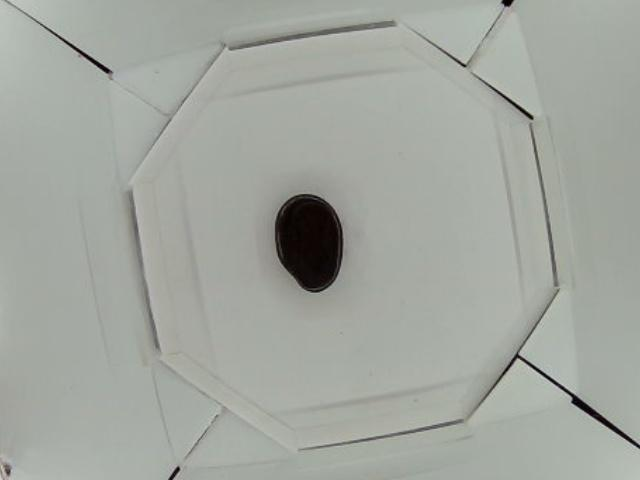Pebble: (274, 193, 344, 292)
